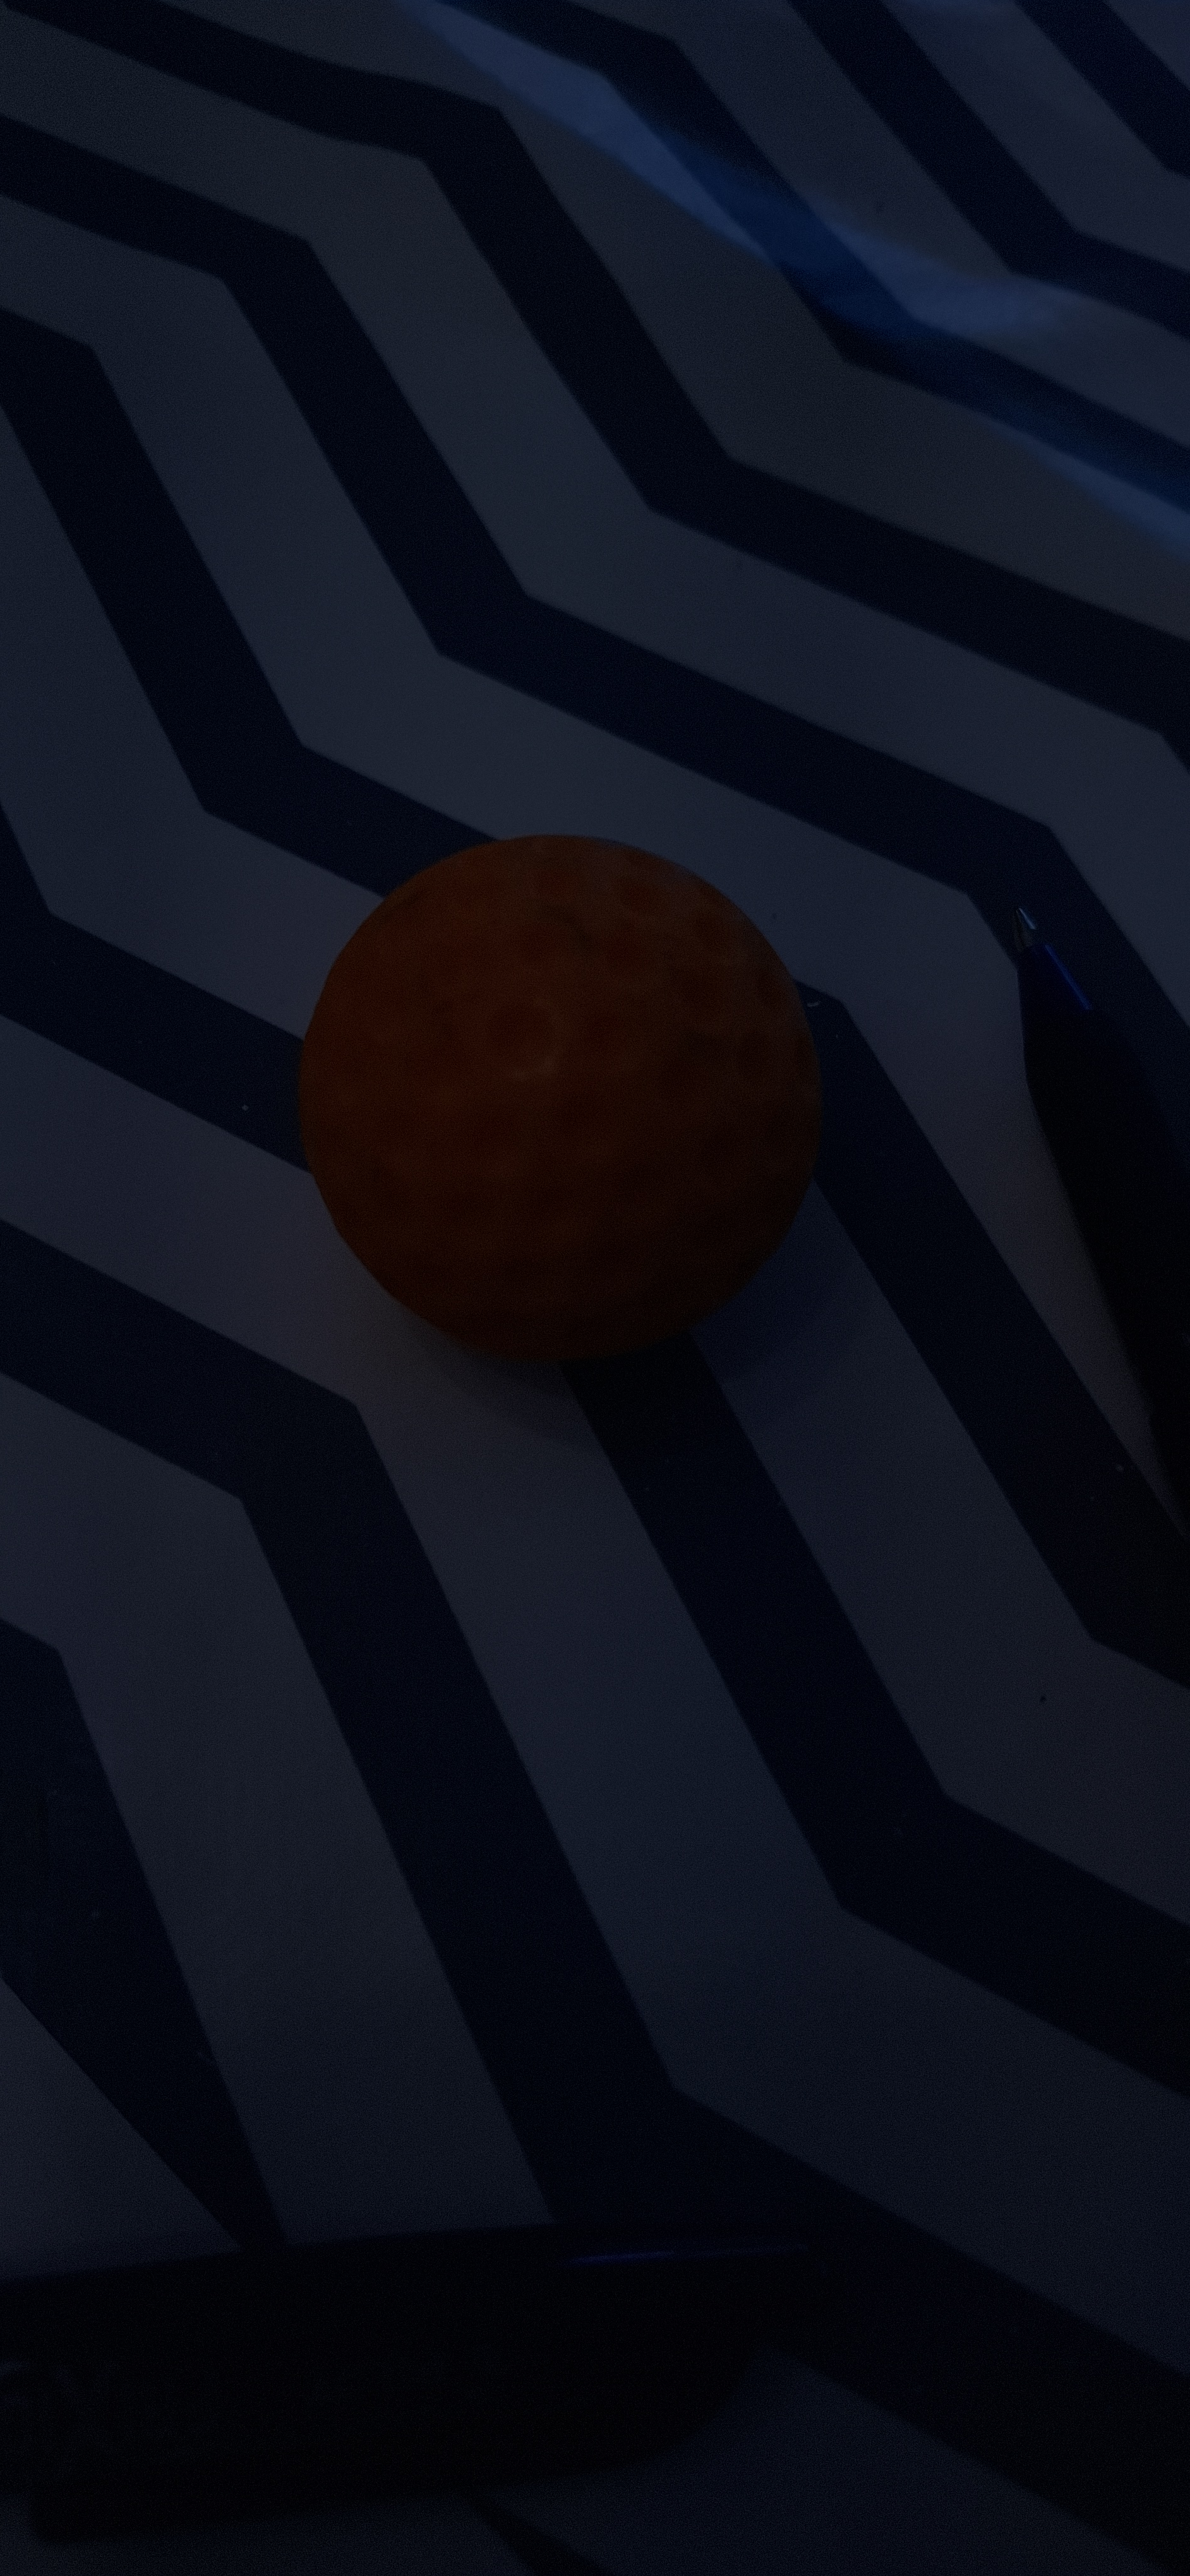ball: (378, 820, 630, 1925)
